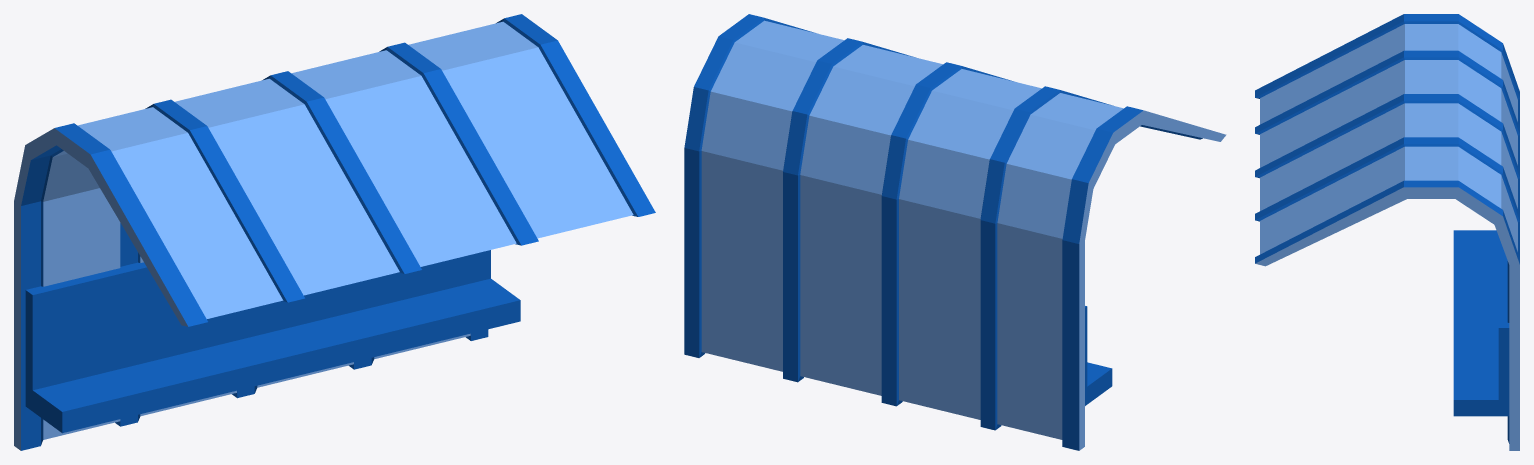
File: bus-stop.glb
3 views of the same model, side by side, from view 1: azimuth 30°, elevation 25°; view 2: azimuth 150°, elevation 25°; view 3: azimuth 270°, elevation 25° (orthographic). The views are drawn at different scales.
Visible parts, largest first — view 1: BusStop_Cylinder.023; view 2: BusStop_Cylinder.023; view 3: BusStop_Cylinder.023.
Part boxes in pixels (bbox=[...]): BusStop_Cylinder.023: bbox=[14, 14, 655, 450]; BusStop_Cylinder.023: bbox=[684, 14, 1226, 450]; BusStop_Cylinder.023: bbox=[1255, 14, 1519, 450].
Bounding box in the file's own units: 38.31 × 27.2 × 24.76.
Materials: 1 (1 with a texture image).
